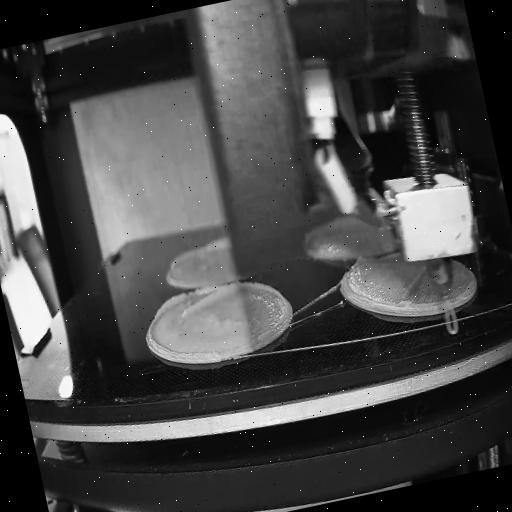over_extrusion: (148, 278, 244, 326), (240, 274, 290, 324)
